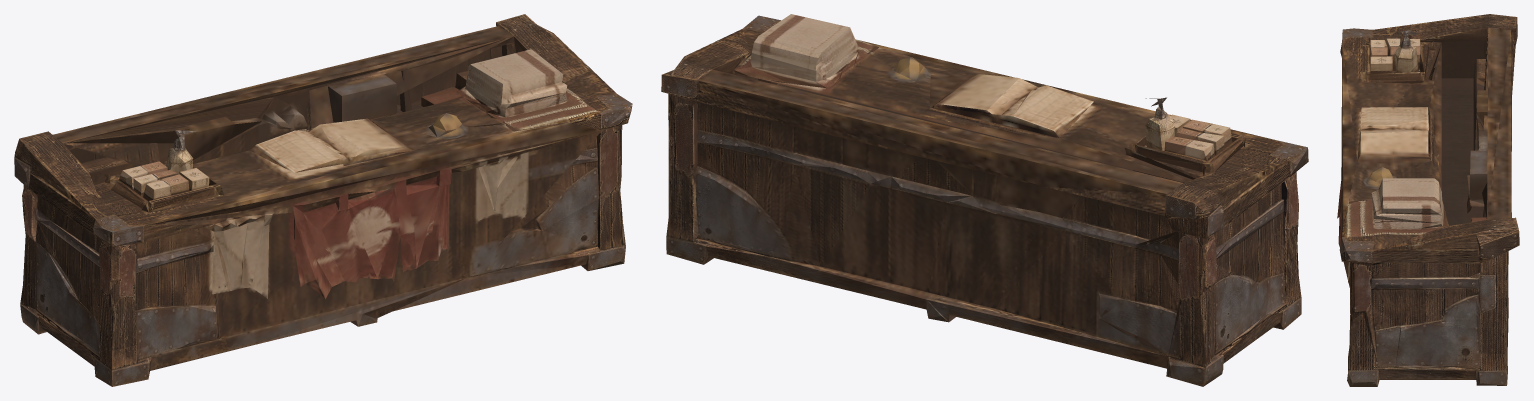
File: checkin-counter.glb
The picture shows the model from 3 angles, left to right: view 1: azimuth 30°, elevation 25°; view 2: azimuth 150°, elevation 25°; view 3: azimuth 270°, elevation 25°; orthographic projection. The views are drawn at different scales.
Visible parts, largest first — view 1: output_unwrapped; view 2: output_unwrapped; view 3: output_unwrapped.
Boxes of the visible parts, box(x1,y1,x2,y2) form: output_unwrapped: box(14, 14, 632, 386); output_unwrapped: box(661, 14, 1308, 386); output_unwrapped: box(1337, 14, 1519, 386).
Bounding box in the file's own units: 1.9 × 0.7224 × 0.6565.
1 material, 1 textured.
